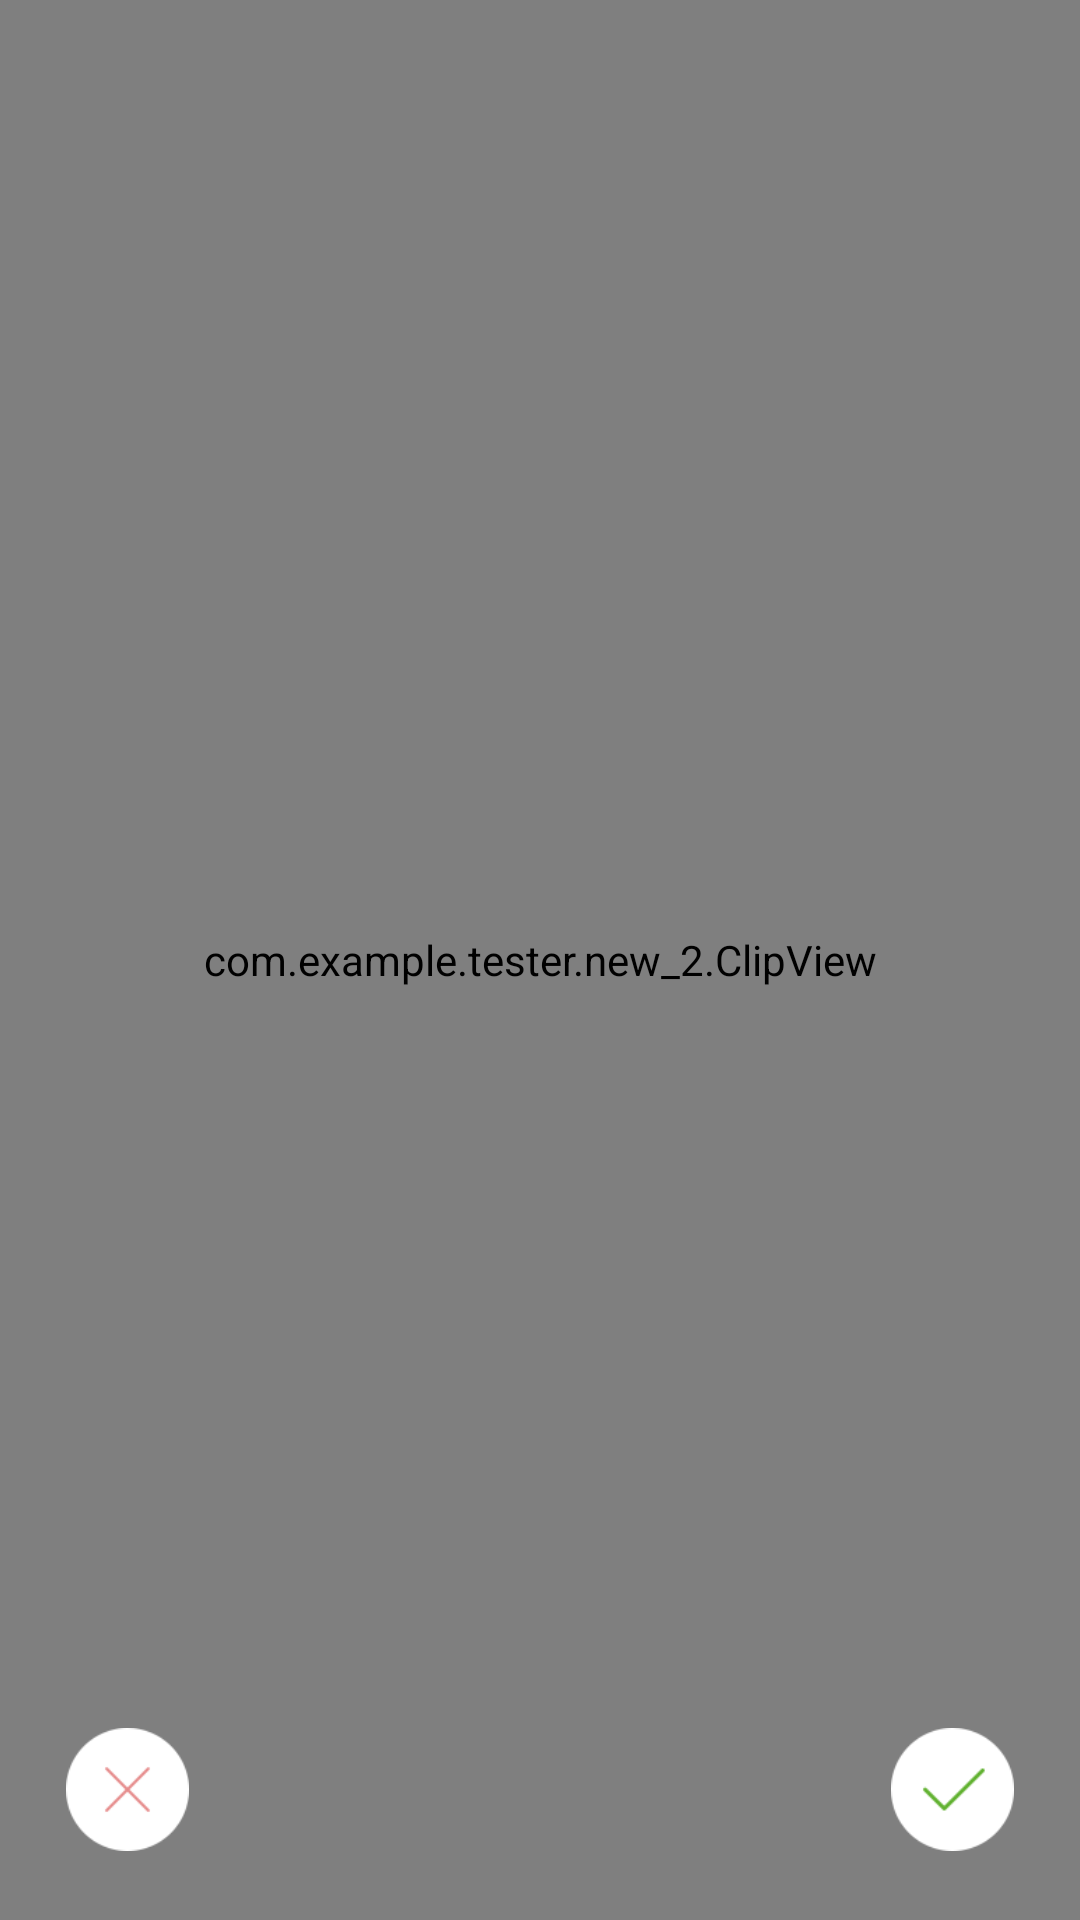

Locate icon controls on the screen. Image size 1080px x 1920px, boxes as (x1=x1, y1=y1, x2=x2, y2=y2).
crop cancle: (x1=66, y1=1728, x2=189, y2=1851)
crop save: (x1=891, y1=1728, x2=1014, y2=1851)
